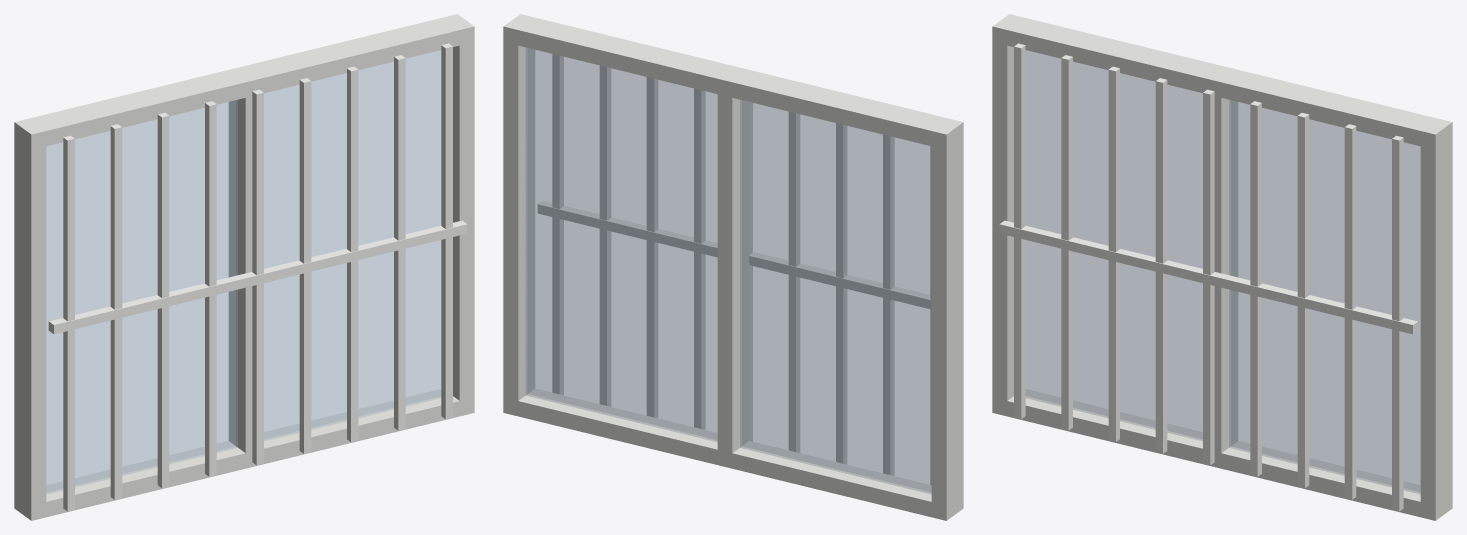
File: window-barred.obj
The picture shows the model from 3 angles, left to right: view 1: azimuth 30°, elevation 25°; view 2: azimuth 150°, elevation 25°; view 3: azimuth 330°, elevation 25°; orthographic projection.
Visible parts, largest first — view 1: window-barred_5, window-barred_1, window-barred_2, window-barred_0, window-barred_3, window-barred_4, window-barred_15, window-barred_7, window-barred_11, window-barred_8, window-barred_9, window-barred_12 (+4 smaller); view 2: window-barred_5, window-barred_1, window-barred_0, window-barred_2, window-barred_3, window-barred_4, window-barred_15, window-barred_9, window-barred_12, window-barred_13, window-barred_14, window-barred_7 (+4 smaller); view 3: window-barred_5, window-barred_1, window-barred_4, window-barred_0, window-barred_3, window-barred_2, window-barred_15, window-barred_9, window-barred_13, window-barred_12, window-barred_8, window-barred_11 (+4 smaller).
Part boxes in pixels (<box>): window-barred_5: <box>46,50,441,493</box>; window-barred_1: <box>14,14,474,149</box>; window-barred_2: <box>14,120,46,520</box>; window-barred_0: <box>14,389,474,520</box>; window-barred_3: <box>228,68,260,467</box>; window-barred_4: <box>444,15,474,413</box>; window-barred_15: <box>48,220,467,334</box>; window-barred_7: <box>110,124,122,499</box>; window-barred_11: <box>299,78,311,453</box>; window-barred_8: <box>157,112,169,488</box>; window-barred_9: <box>205,101,216,476</box>; window-barred_12: <box>347,66,358,442</box>; window-barred_5: <box>525,47,931,493</box>; window-barred_1: <box>503,14,963,149</box>; window-barred_0: <box>503,388,963,520</box>; window-barred_2: <box>931,119,963,520</box>; window-barred_3: <box>717,71,749,468</box>; window-barred_4: <box>503,14,535,415</box>; window-barred_15: <box>537,200,931,309</box>; window-barred_9: <box>788,111,800,452</box>; window-barred_12: <box>646,77,658,418</box>; window-barred_13: <box>599,65,611,406</box>; window-barred_14: <box>552,54,563,395</box>; window-barred_7: <box>883,134,894,475</box>; window-barred_5: <box>1025,50,1420,493</box>; window-barred_1: <box>992,14,1452,149</box>; window-barred_4: <box>1420,120,1452,519</box>; window-barred_0: <box>992,389,1452,520</box>; window-barred_3: <box>1206,74,1238,468</box>; window-barred_2: <box>992,14,1021,414</box>; window-barred_15: <box>999,220,1418,334</box>; window-barred_9: <box>1155,78,1167,453</box>; window-barred_13: <box>1344,124,1356,499</box>; window-barred_12: <box>1297,112,1309,488</box>; window-barred_8: <box>1108,66,1119,442</box>; window-barred_11: <box>1250,101,1261,476</box>.
Bounding box in the file's own units: 1.5 × 1.25 × 0.145.
